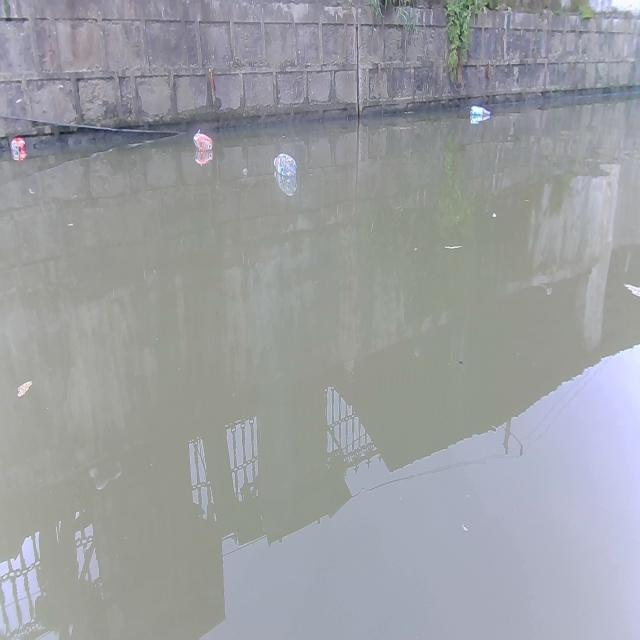bottle: (272, 155, 296, 177), (468, 105, 493, 122), (192, 132, 212, 153), (10, 135, 28, 157)
